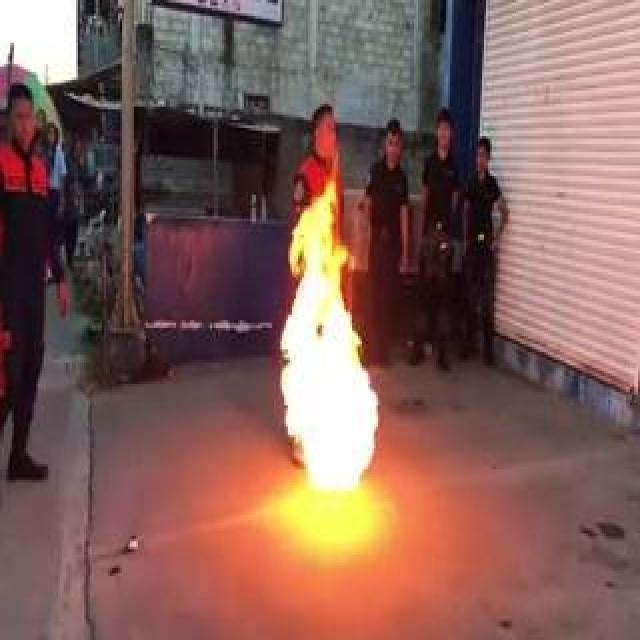Fire: (276, 184, 382, 504)
